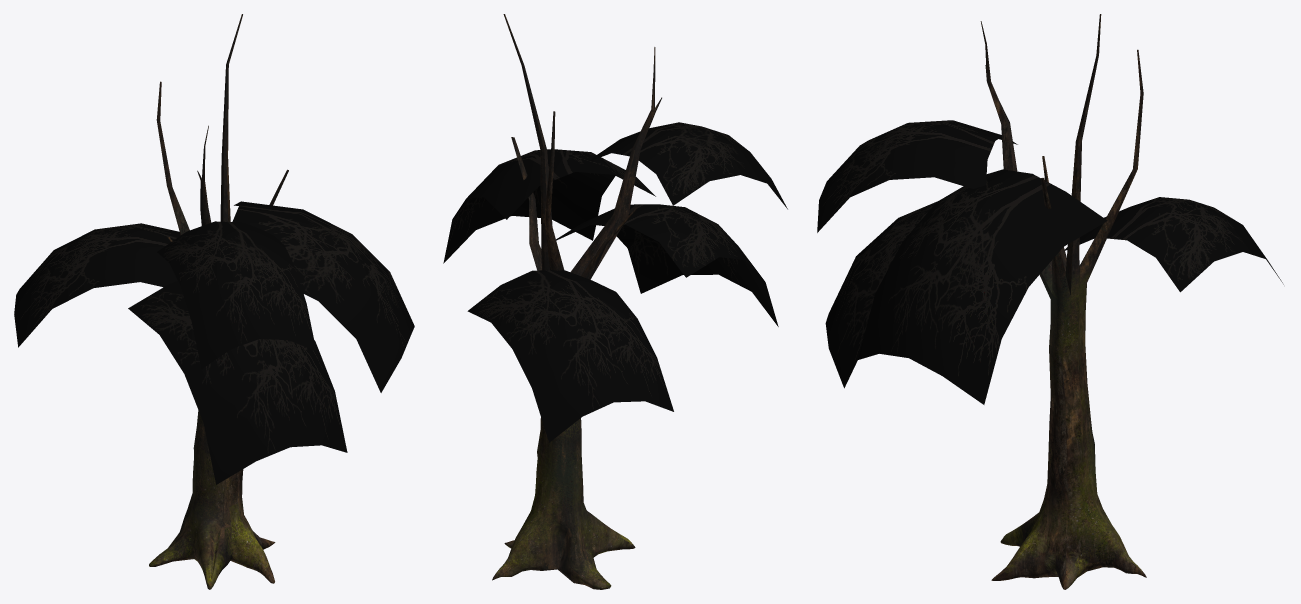
Rendered from tree2_idle.fbx.
The picture shows the model from 3 angles, left to right: view 1: azimuth 30°, elevation 25°; view 2: azimuth 150°, elevation 25°; view 3: azimuth 270°, elevation 25°; orthographic projection. The views are drawn at different scales.
Visible parts, largest first — view 1: Plane038, Plane040, Plane039, Cylinder019, Plane041; view 2: Plane041, Cylinder019, Plane039, Plane038, Plane040; view 3: Plane039, Cylinder019, Plane040, Plane041, Plane038.
Part boxes in pixels (x1,y1,x2,y2): Plane038: [128, 281, 347, 484]; Plane040: [157, 221, 316, 369]; Plane039: [232, 201, 414, 392]; Cylinder019: [149, 14, 288, 589]; Plane041: [14, 223, 180, 347]; Plane041: [467, 270, 673, 442]; Cylinder019: [492, 14, 661, 589]; Plane039: [443, 149, 655, 263]; Plane038: [556, 204, 778, 326]; Plane040: [591, 122, 787, 209]; Plane039: [857, 169, 1107, 404]; Cylinder019: [980, 14, 1146, 589]; Plane040: [817, 120, 1017, 232]; Plane041: [1065, 197, 1283, 292]; Plane038: [825, 201, 936, 388].
Size of the model in its own units: 10.08 by 16.72 by 12.35.
Materials: 2 (2 with a texture image).
